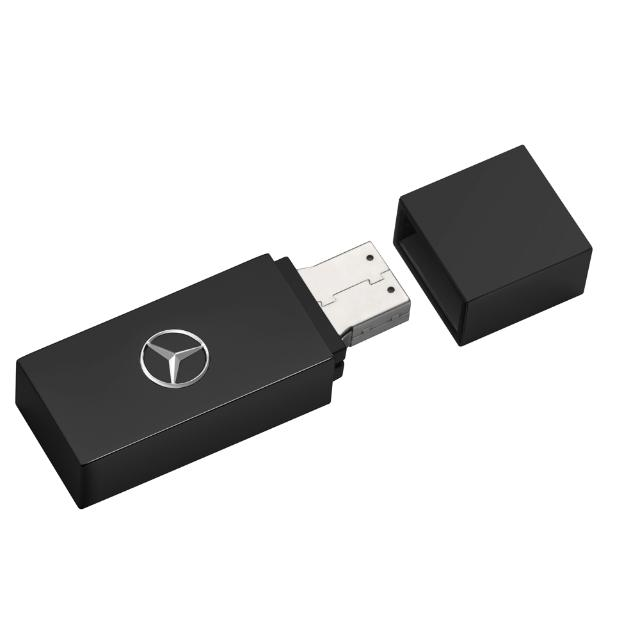USB-Flash-Drive: (14, 241, 414, 511)
